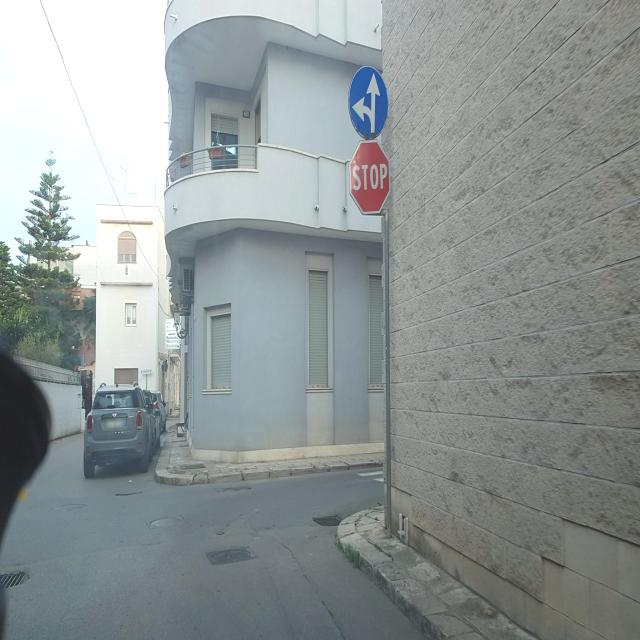car: (82, 380, 160, 478), (147, 388, 168, 433)
